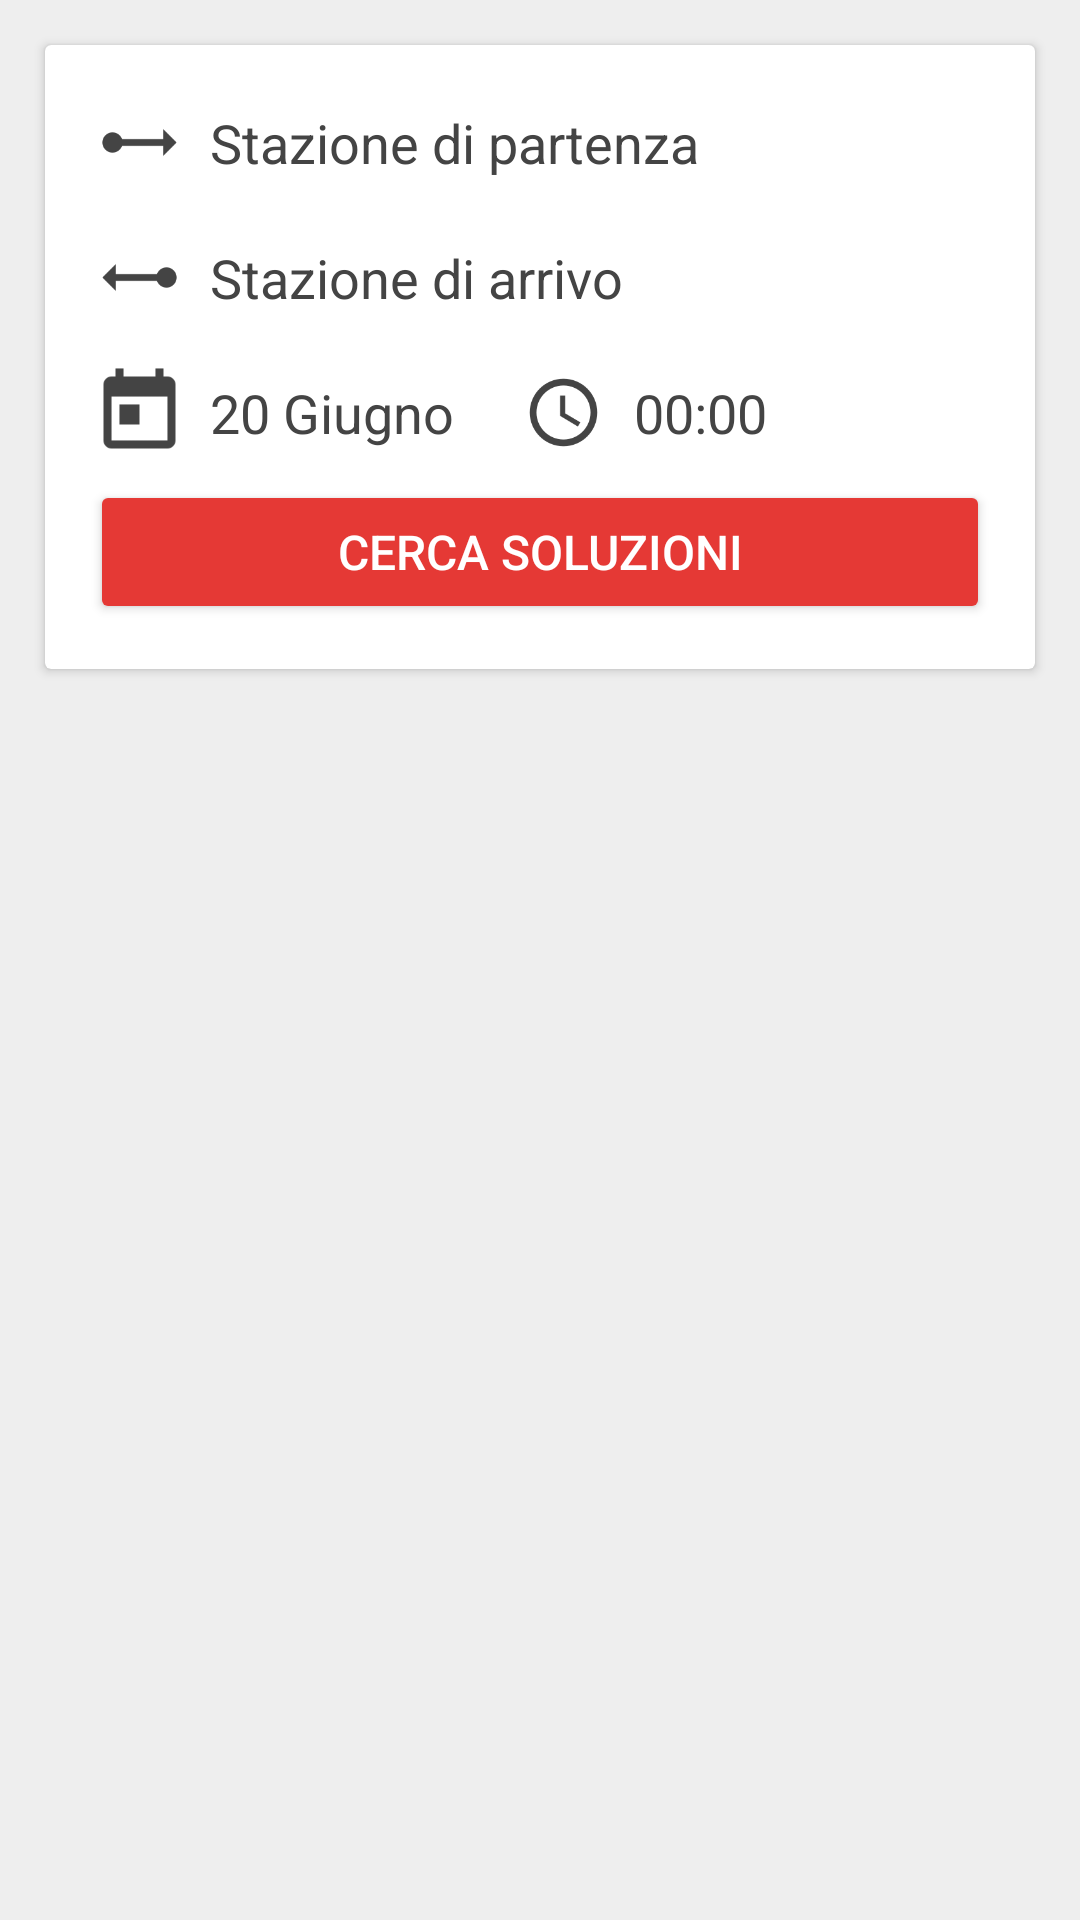

Screen size 1080px×1920px. Icon name, then its box in pixels as [left=x1, top=y1, right=x2, bottom=y2]:
calendar: [left=103, top=368, right=176, bottom=449]
clock: [left=529, top=378, right=598, bottom=447]
